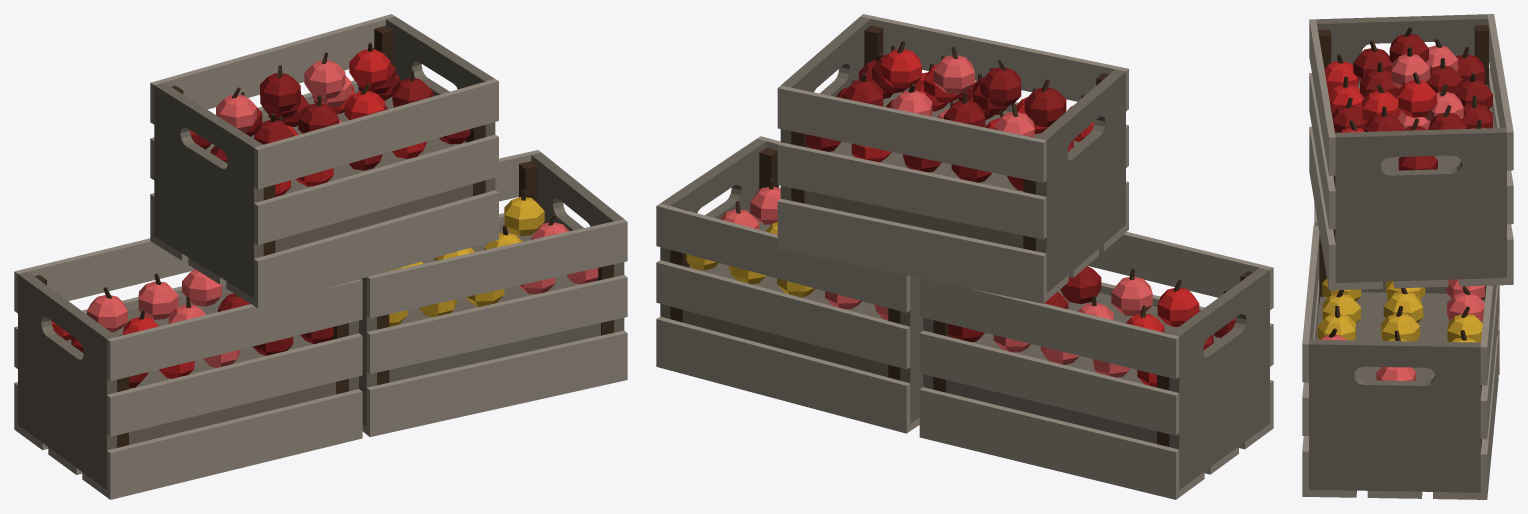
The picture shows the model from 3 angles, left to right: view 1: azimuth 30°, elevation 25°; view 2: azimuth 150°, elevation 25°; view 3: azimuth 270°, elevation 25°; orthographic projection. The views are drawn at different scales.
Visible parts, largest first — view 1: crate_top_russet, crate_left_russet, crate_right_russet, crate_top_russet_dark, crate_left_russet_dark, crate_right_russet_dark, fruit_top_apple_red_dark, fruit_left_apple_red_light, fruit_top_apple_red, fruit_right_gold, fruit_top_apple_red_light, fruit_left_apple_red_dark (+5 smaller); view 2: crate_top_russet, crate_left_russet, crate_right_russet, crate_top_russet_dark, crate_left_russet_dark, crate_right_russet_dark, fruit_top_apple_red_dark, fruit_top_apple_red, fruit_left_apple_red_light, fruit_top_apple_red_light, fruit_left_apple_red_dark, fruit_right_apple_red_light (+6 smaller); view 3: crate_top_russet_dark, crate_right_russet_dark, crate_top_russet, fruit_top_apple_red_dark, crate_right_russet, fruit_right_gold, fruit_top_apple_red, fruit_top_apple_red_light, fruit_right_apple_red_light, fruit_top_dark_wood, crate_top_dark_wood, fruit_right_dark_wood (+2 smaller).
Boxes of the visible parts, box(x1,y1,x2,y2) form: crate_top_russet: box(150, 14, 498, 308); crate_left_russet: box(14, 238, 362, 499); crate_right_russet: box(362, 150, 627, 436); crate_top_russet_dark: box(154, 16, 495, 298); crate_left_russet_dark: box(18, 271, 358, 489); crate_right_russet_dark: box(359, 152, 624, 426); fruit_top_apple_red_dark: box(190, 63, 470, 170); fruit_left_apple_red_light: box(87, 269, 240, 367); fruit_top_apple_red: box(275, 49, 426, 196); fruit_right_gold: box(386, 197, 544, 326); fruit_top_apple_red_light: box(216, 60, 352, 132); fruit_left_apple_red_dark: box(71, 293, 333, 388); crate_top_russet: box(777, 14, 1128, 303); crate_left_russet: box(919, 232, 1273, 499); crate_right_russet: box(656, 136, 919, 433); crate_top_russet_dark: box(780, 16, 1125, 293); crate_left_russet_dark: box(923, 268, 1269, 489); crate_right_russet_dark: box(660, 139, 923, 423); fruit_top_apple_red_dark: box(806, 54, 1073, 190); fruit_top_apple_red: box(851, 49, 1094, 162); fruit_left_apple_red_light: box(993, 276, 1152, 377); fruit_top_apple_red_light: box(891, 55, 1034, 137); fruit_left_apple_red_dark: box(948, 266, 1235, 350); fruit_right_apple_red_light: box(719, 186, 888, 319); crate_top_russet_dark: box(1316, 14, 1506, 282); crate_right_russet_dark: box(1309, 235, 1484, 492); crate_top_russet: box(1309, 14, 1513, 290); fruit_top_apple_red_dark: box(1332, 34, 1492, 170); crate_right_russet: box(1302, 225, 1498, 499); fruit_right_gold: box(1317, 278, 1482, 368); fruit_top_apple_red: box(1324, 61, 1485, 132); fruit_top_apple_red_light: box(1391, 45, 1463, 129); fruit_right_apple_red_light: box(1320, 279, 1485, 380); fruit_top_dark_wood: box(1337, 27, 1481, 130); crate_top_dark_wood: box(1318, 25, 1488, 238); fruit_right_dark_wood: box(1329, 286, 1470, 341).
Size of the model in its own units: 1.03 by 0.6567 by 0.3769.
